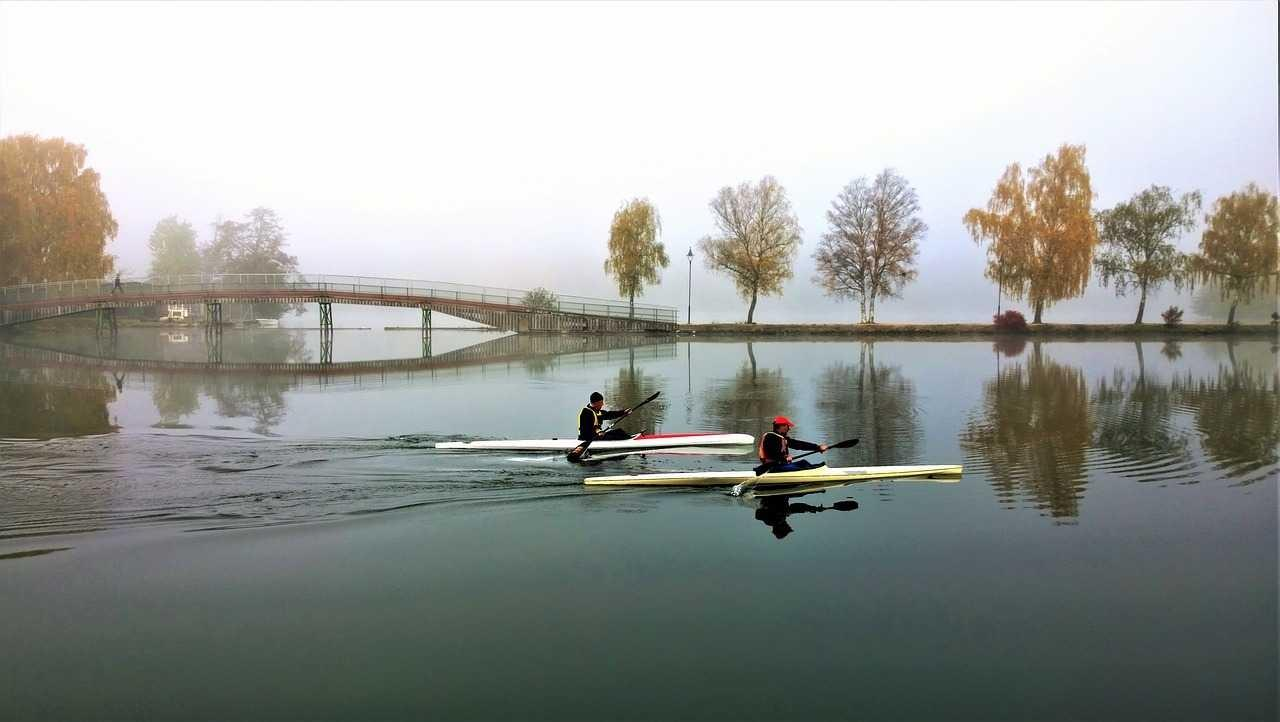kayak: (573, 434, 960, 491)
